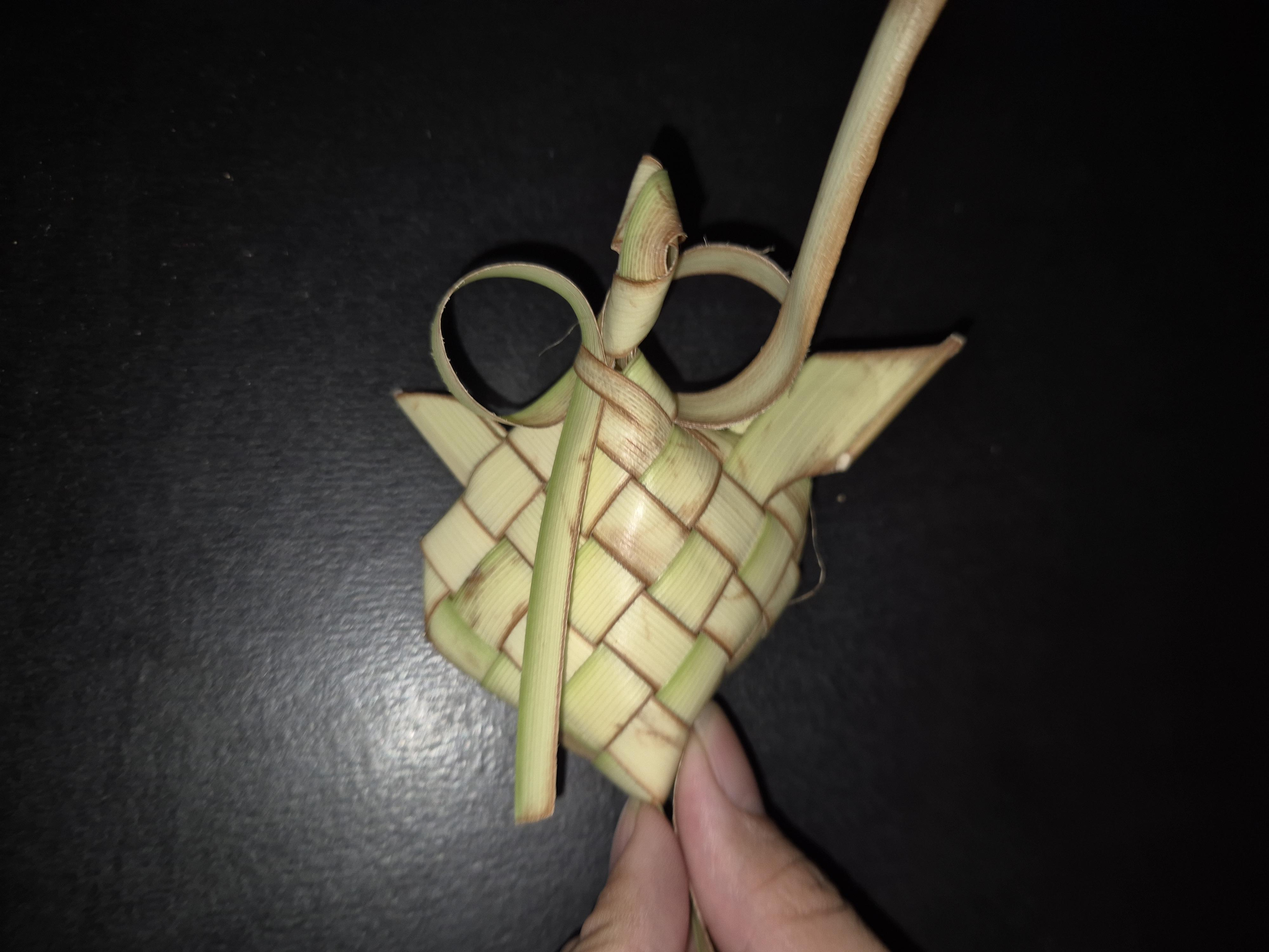Tipat Dampulan: (173, 299, 1269, 722)
